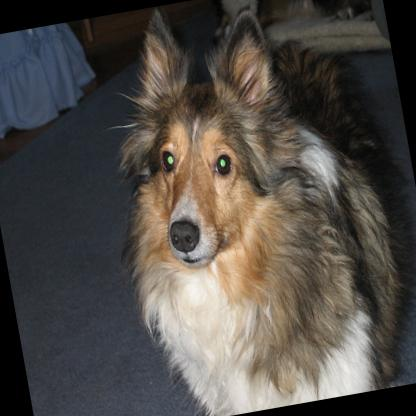Shetland_sheepdog: (81, 0, 416, 416)
